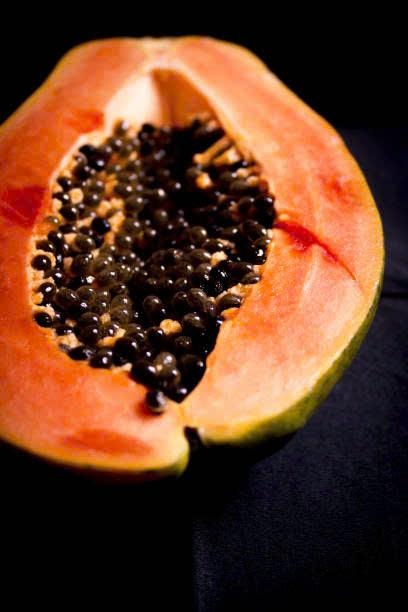papaya: (4, 22, 399, 490)
